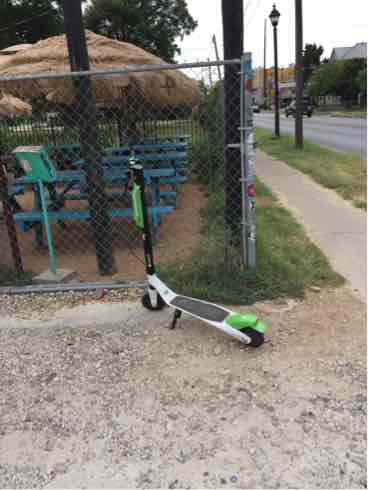scooter: (95, 150, 277, 349)
